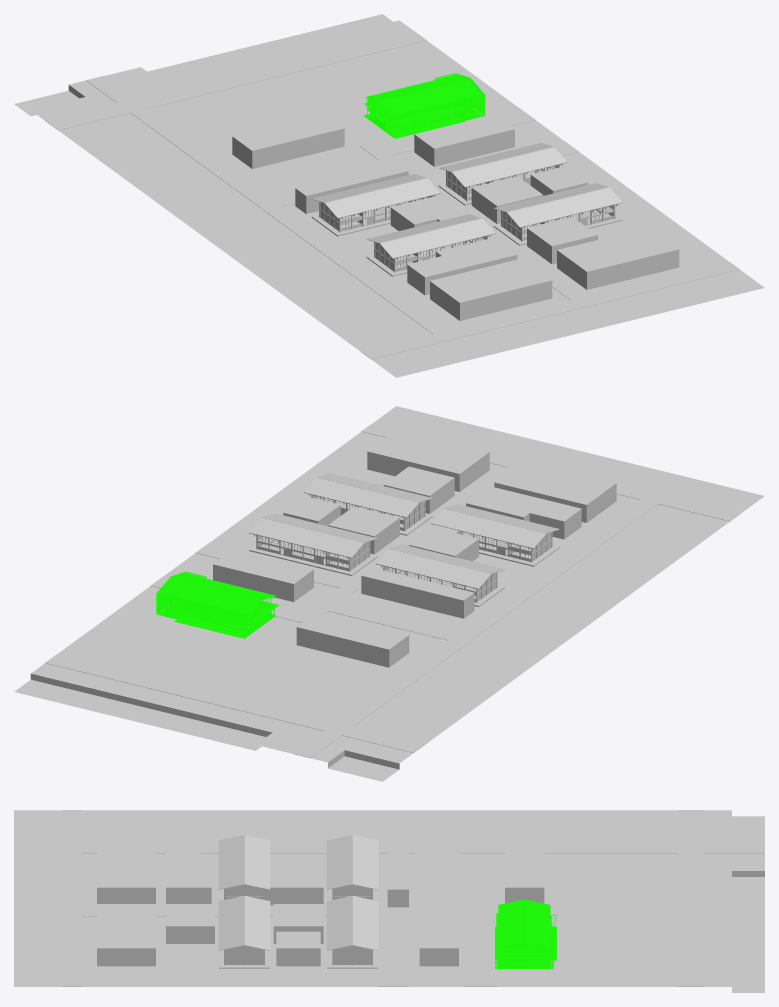
3 views of the same model, one above another, from view 1: azimuth 30°, elevation 25°; view 2: azimuth 150°, elevation 25°; view 3: azimuth 270°, elevation 25° (orthographic).
Parts seen in each view (by area): view 1: land-pave, land-road, ar13, ar24, ar25, ar15, ar21, ar20, ar12, ar16, ar14, land-water (+6 smaller); view 2: land-pave, land-road, land-water, ar13, ar16, ar25, ar20, ar12, ar24, ar15, ar21, ar14 (+6 smaller); view 3: land-pave, land-road, land-water, ar13, ar16, ar25, ar21, ar24, ar15, ar20, ar22, ar12 (+6 smaller).
Boxes of the visible parts, x1,y1,x2,y2 form: land-pave: (31,20,764,377); land-road: (45,30,739,359); ar13: (363,73,485,138); ar24: (430,258,552,320); ar25: (557,227,679,289); ar15: (311,174,440,236); ar21: (493,183,622,245); ar20: (366,214,495,276); ar12: (232,114,344,168); ar16: (438,143,567,205); ar14: (414,114,514,166); land-water: (14,14,392,116); land-pave: (31,406,764,763); land-road: (45,424,739,758); land-water: (14,673,399,781); ar13: (156,571,279,638); ar16: (249,513,377,575); ar25: (367,429,489,491); ar20: (431,504,559,566); ar12: (296,612,409,667); ar24: (494,460,616,522); ar15: (376,544,504,606); ar21: (304,473,432,535); ar14: (213,549,313,601); land-pave: (14,810,764,986); land-road: (63,810,764,986); land-water: (732,816,764,992); ar13: (495,899,556,969); ar16: (326,895,378,968); ar25: (97,904,155,966); ar21: (218,895,270,968); ar24: (97,843,155,903); ar15: (326,834,378,900); ar20: (218,834,270,900); ar22: (166,843,211,903); ar12: (505,843,544,903).
Bounding box in the file's own units: 128 × 11.42 × 229.
